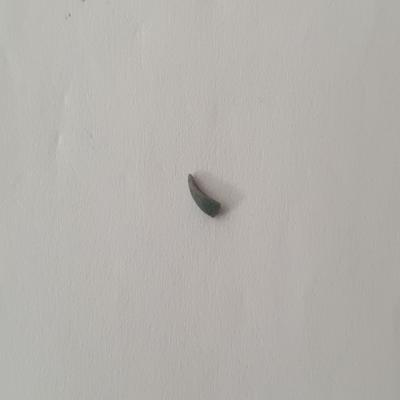plastic: (179, 164, 233, 226)
